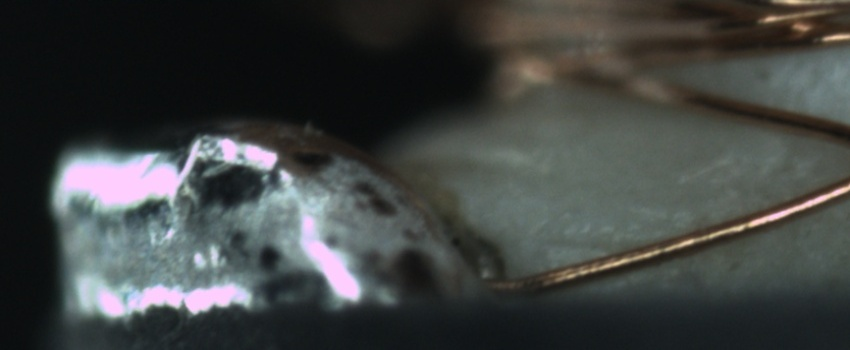DL: (525, 205, 682, 269)
